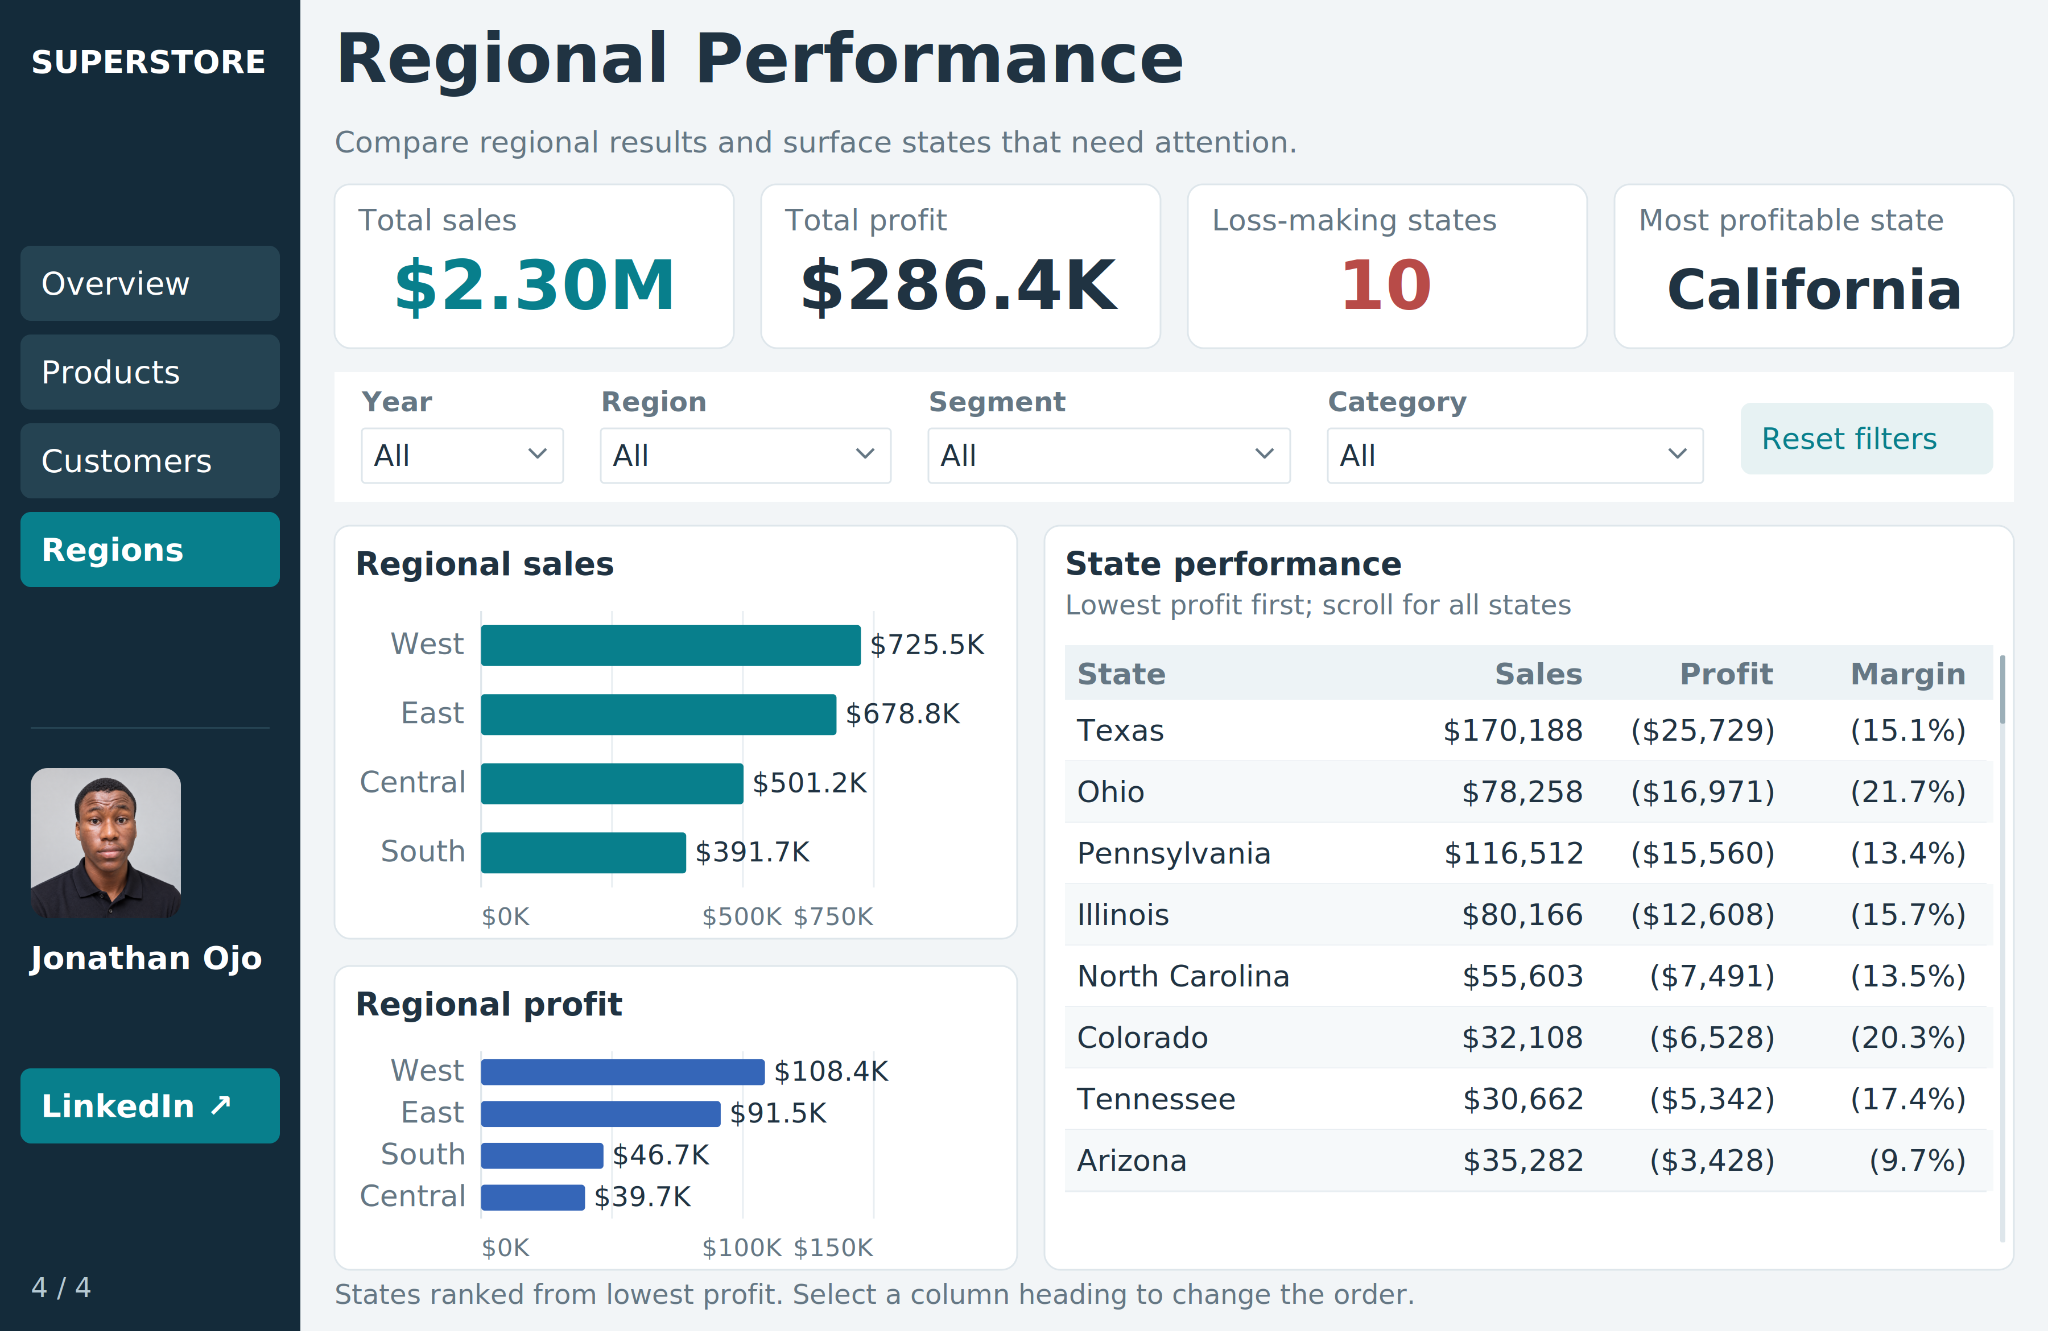

Layout of this report page (visuals, bound fields, positions):
{"tool":"powerbi","page":{"name":"Regional Performance","canvas":[1200,780],"ordinal":3},"visuals":[{"type":"shape","box":[0,0,176,780],"z":0},{"type":"textbox","box":[18,24,144,38],"z":1000},{"type":"actionButton","box":[12,144,152,44],"z":4000},{"type":"actionButton","box":[12,196,152,44],"z":5000},{"type":"actionButton","box":[12,248,152,44],"z":6000},{"type":"actionButton","box":[12,300,152,44],"z":7000},{"type":"shape","box":[18,426,140,1],"z":8000},{"type":"image","box":[18,450,88,88],"z":9000},{"type":"textbox","box":[18,549,150,34],"z":10000},{"type":"actionButton","box":[12,626,152,44],"z":12000},{"type":"textbox","box":[18,744,140,30],"z":14000},{"type":"textbox","box":[196,8,984,62],"z":15000},{"type":"textbox","box":[196,72,984,32],"z":16000},{"type":"shape","box":[196,218,984,76],"z":17000},{"type":"slicer","title":"Year","fields":{"Values":["DateTable.Year"]},"box":[208,222,126,68],"z":18000},{"type":"slicer","title":"Region","fields":{"Values":["Sample-Superstore.Region"]},"box":[348,222,178,68],"z":19000},{"type":"slicer","title":"Segment","fields":{"Values":["Sample-Superstore.Segment"]},"box":[540,222,220,68],"z":20000},{"type":"slicer","title":"Category","fields":{"Values":["Sample-Superstore.Category"]},"box":[774,222,228,68],"z":21000},{"type":"actionButton","box":[1020,236,148,42],"z":22000},{"type":"textbox","box":[196,748,984,30],"z":23000},{"type":"card","title":"Total sales","fields":{"Values":["Sample-Superstore.Total Sales"]},"box":[196,108,234,96],"z":24000},{"type":"card","title":"Total profit","fields":{"Values":["Sample-Superstore.Total Profit"]},"box":[446,108,234,96],"z":25000},{"type":"card","title":"Loss-making states","fields":{"Values":["Sample-Superstore.Loss-Making States Count"]},"box":[696,108,234,96],"z":26000},{"type":"card","title":"Most profitable state","fields":{"Values":["Sample-Superstore.Most Profitable State"]},"box":[946,108,234,96],"z":27000},{"type":"clusteredBarChart","title":"Regional sales","fields":{"Category":["Sample-Superstore.Region"],"Y":["Sample-Superstore.Total Sales"]},"box":[196,308,400,242],"z":28000},{"type":"clusteredBarChart","title":"Regional profit","fields":{"Category":["Sample-Superstore.Region"],"Y":["Sample-Superstore.Total Profit"]},"box":[196,566,400,178],"z":29000},{"type":"tableEx","title":"State performance","fields":{"Values":["Sample-Superstore.State","Sample-Superstore.Total Sales","Sample-Superstore.Total Profit","Sample-Superstore.Profit Margin %"]},"box":[612,308,568,436],"z":30000}]}

Visuals, with their boxes in screenshot pixels (x1, y1, x2, y2), scaled from the page's 1200x780 canvas onto the 2048x1331 screenshot:
shape: bbox(0, 0, 300, 1330)
textbox: bbox(31, 41, 276, 106)
actionButton: bbox(20, 246, 280, 321)
actionButton: bbox(20, 334, 280, 410)
actionButton: bbox(20, 423, 280, 498)
actionButton: bbox(20, 512, 280, 587)
shape: bbox(31, 727, 270, 729)
image: bbox(31, 768, 181, 918)
textbox: bbox(31, 937, 287, 995)
actionButton: bbox(20, 1068, 280, 1143)
textbox: bbox(31, 1270, 270, 1321)
textbox: bbox(335, 14, 2014, 119)
textbox: bbox(335, 123, 2014, 177)
shape: bbox(335, 372, 2014, 502)
"Year" slicer: bbox(355, 379, 570, 495)
"Region" slicer: bbox(594, 379, 898, 495)
"Segment" slicer: bbox(922, 379, 1297, 495)
"Category" slicer: bbox(1321, 379, 1710, 495)
actionButton: bbox(1741, 403, 1993, 474)
textbox: bbox(335, 1276, 2014, 1328)
"Total sales" card: bbox(335, 184, 734, 348)
"Total profit" card: bbox(761, 184, 1161, 348)
"Loss-making states" card: bbox(1188, 184, 1587, 348)
"Most profitable state" card: bbox(1615, 184, 2014, 348)
"Regional sales" clusteredBarChart: bbox(335, 526, 1017, 939)
"Regional profit" clusteredBarChart: bbox(335, 966, 1017, 1270)
"State performance" tableEx: bbox(1044, 526, 2014, 1270)
